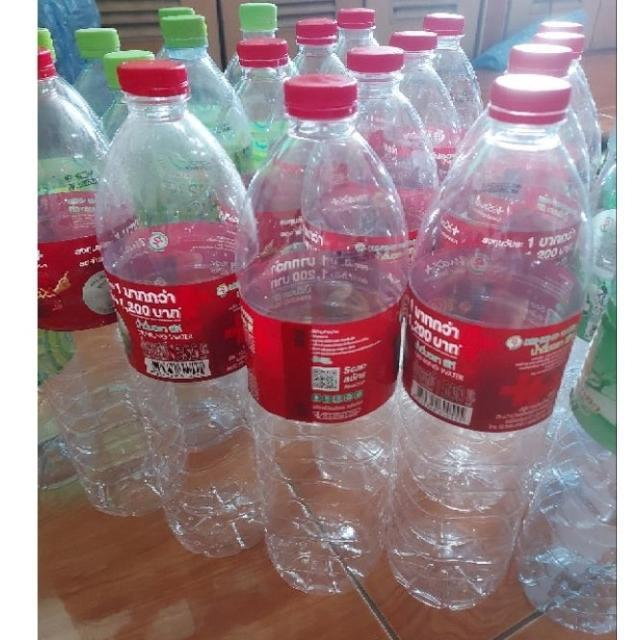PET Bottle: (48, 0, 640, 640), (394, 68, 587, 612), (221, 68, 415, 606), (86, 25, 266, 566), (18, 27, 176, 551)
